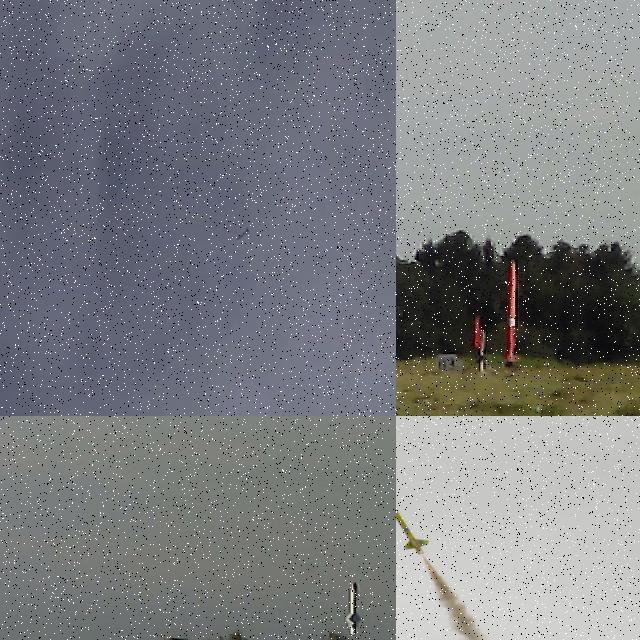Rocket: (396, 434, 430, 556), (505, 259, 517, 363), (346, 582, 362, 635), (473, 313, 484, 348), (237, 228, 250, 242)
